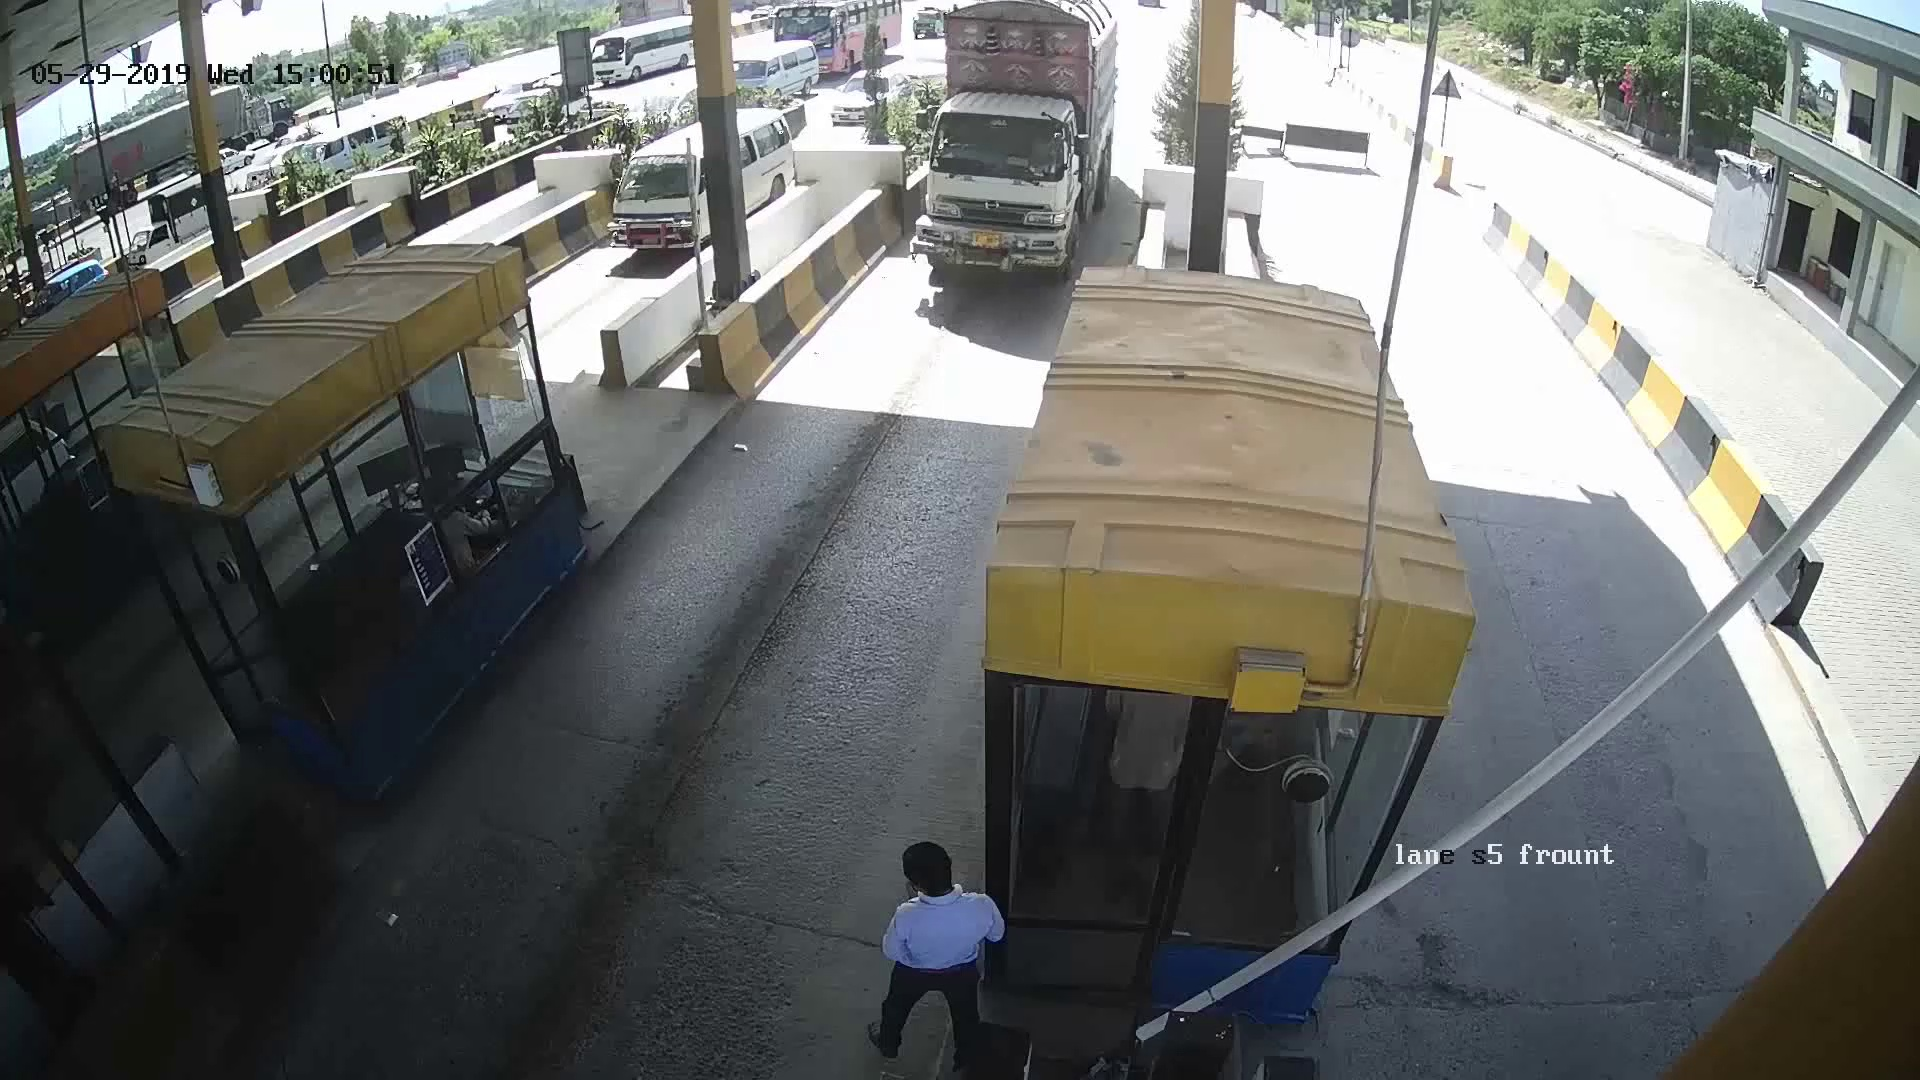truck: (909, 25, 1116, 280)
